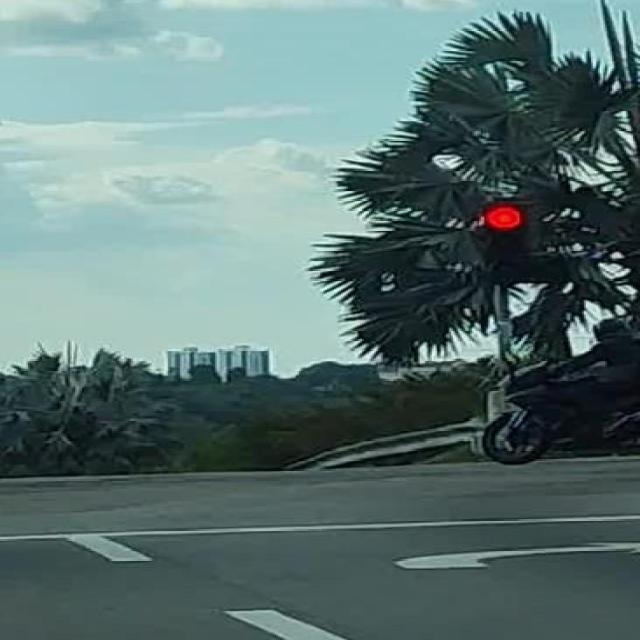red_light: (484, 204, 528, 282)
